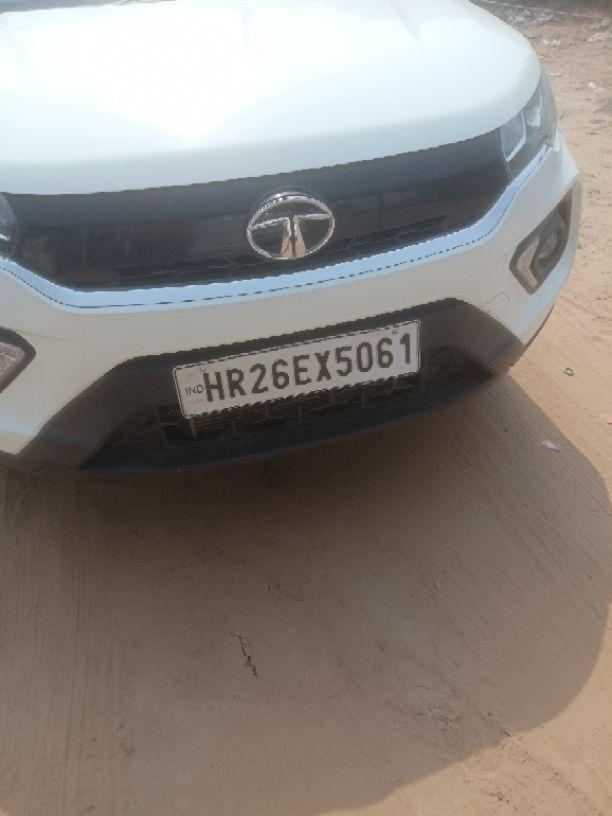license_plate: (1, 0, 583, 476), (170, 317, 422, 425)
